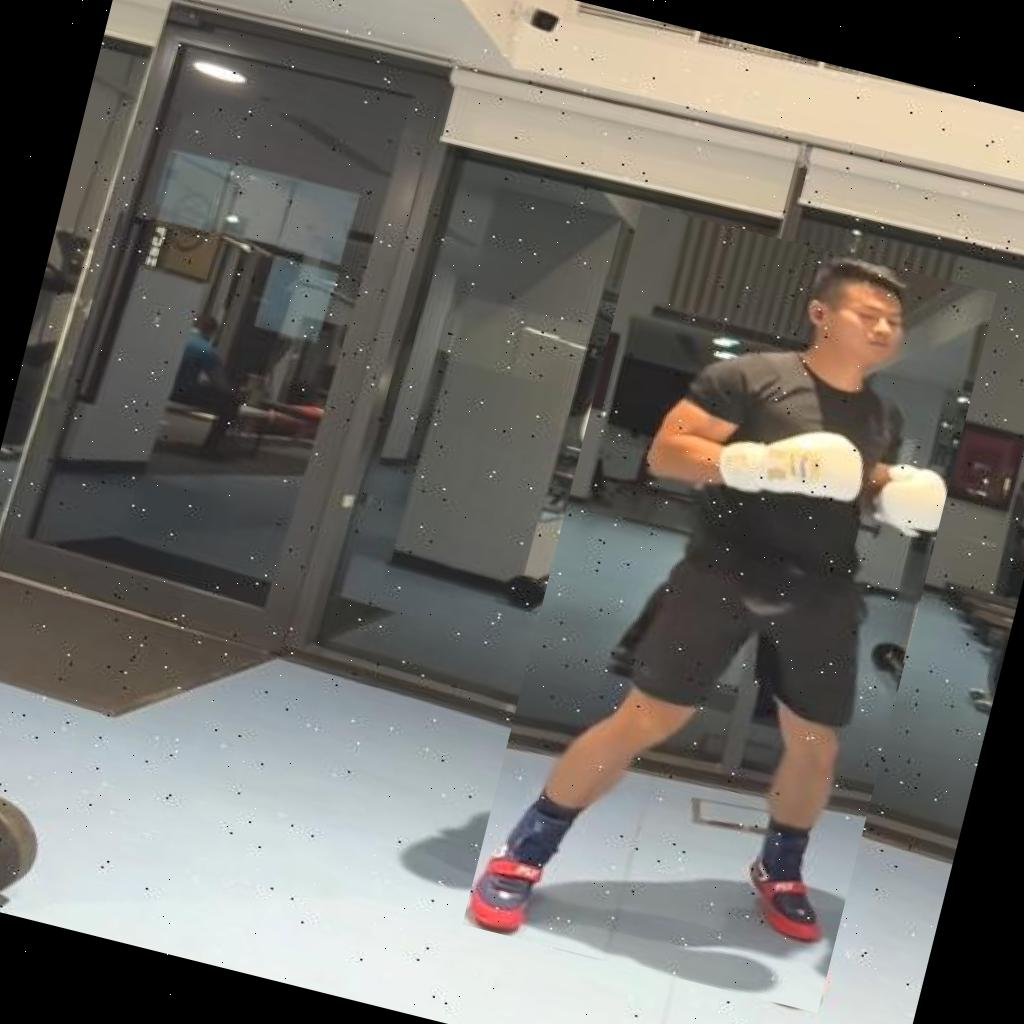no punch: (462, 204, 996, 1014)
